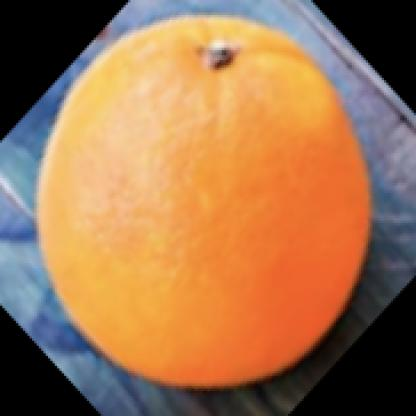fresh: (39, 16, 375, 388)
